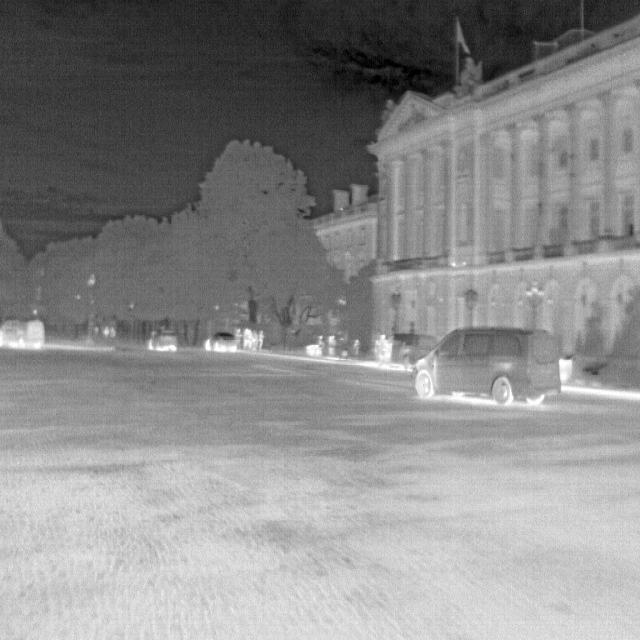Vehicle: (411, 320, 564, 408)
